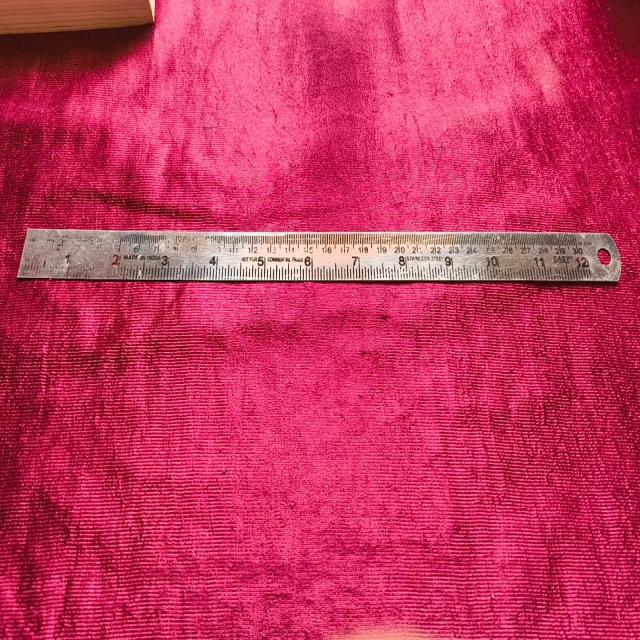scale: (18, 227, 622, 283)
